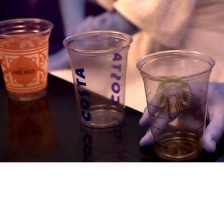glass: (133, 47, 220, 162), (61, 28, 134, 131), (0, 13, 56, 104)
